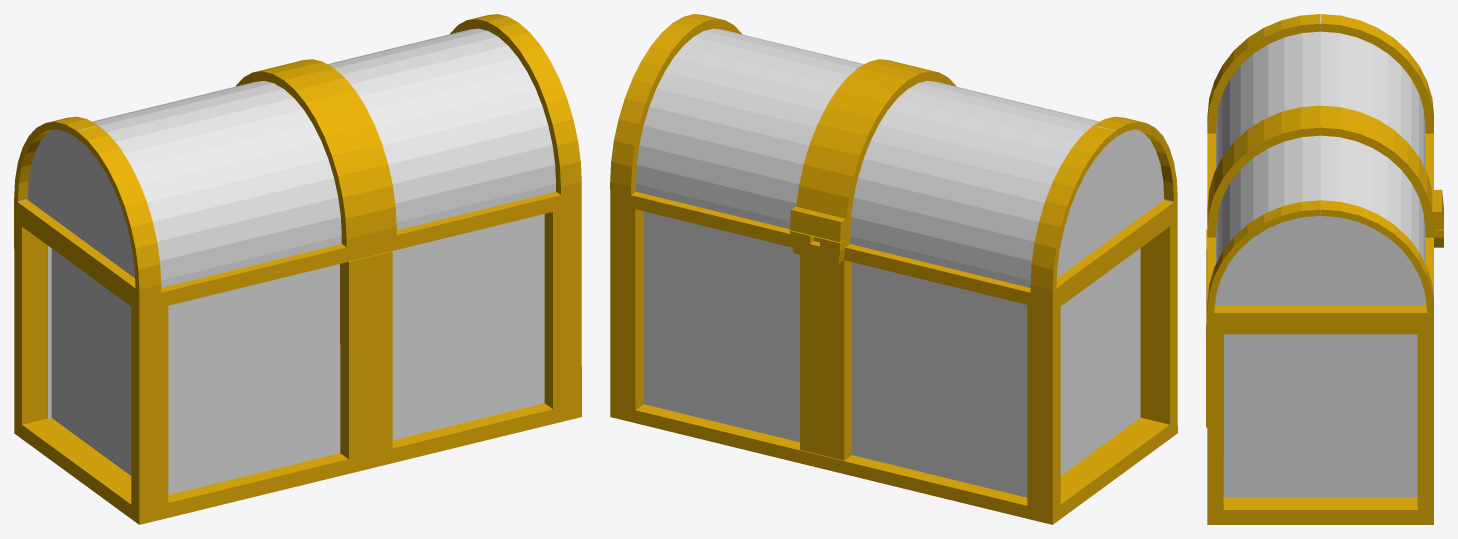
The model's file is Chest.fbx.
3 renders of one model, left to right at view 1: azimuth 30°, elevation 25°; view 2: azimuth 150°, elevation 25°; view 3: azimuth 270°, elevation 25°, orthographic. The views are drawn at different scales.
Visible parts, largest first — view 1: Object_3, Object_2; view 2: Object_3, Object_2; view 3: Object_3, Object_2.
Part boxes in pixels (x1,y1,x2,y2): Object_3: (18,28,555,494); Object_2: (14,14,581,524); Object_3: (636,28,1173,497); Object_2: (610,14,1177,524); Object_3: (1215,14,1426,496); Object_2: (1206,14,1443,524).
Size of the model in its own units: 408 by 307 by 210.
